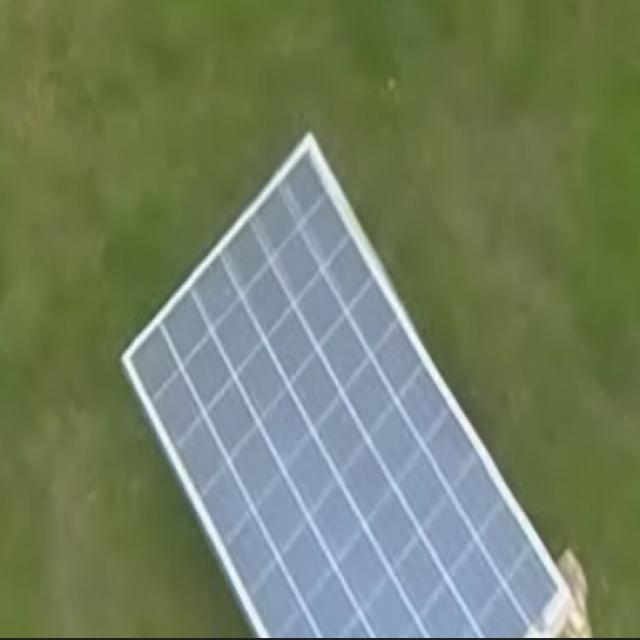no faulty: (119, 137, 569, 640)
